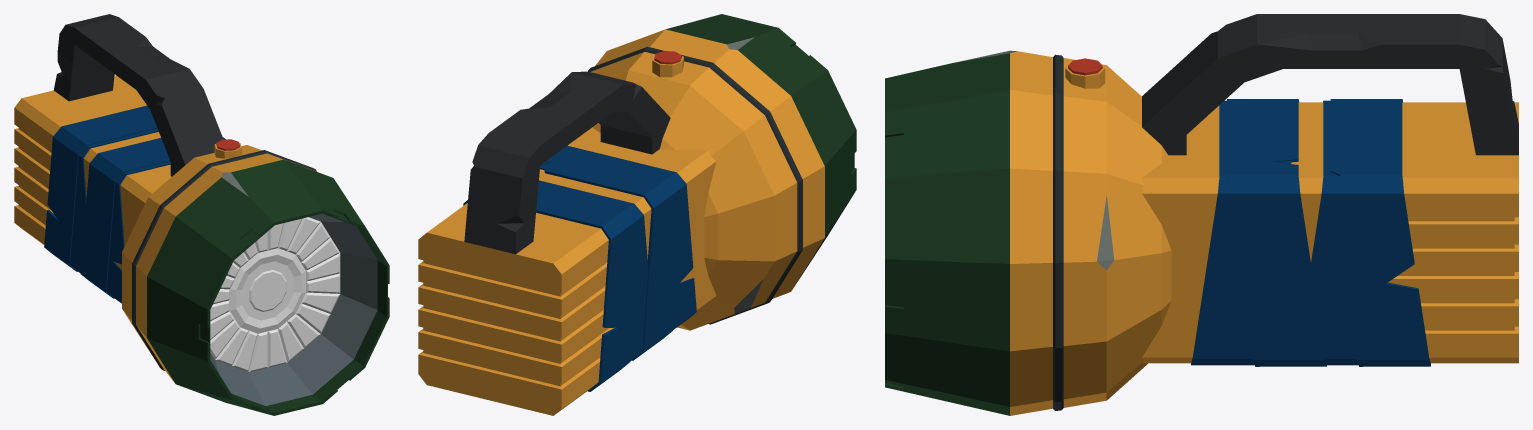
File: SM_FLASHLIGHT.gltf
The picture shows the model from 3 angles, left to right: view 1: azimuth 30°, elevation 25°; view 2: azimuth 150°, elevation 25°; view 3: azimuth 270°, elevation 25°; orthographic projection. The views are drawn at different scales.
Parts seen in each view (by area): view 1: SM_FLASHLIGHT; view 2: SM_FLASHLIGHT; view 3: SM_FLASHLIGHT.
Boxes of the visible parts, x1,y1,x2,y2 form: SM_FLASHLIGHT: (14, 14, 389, 415); SM_FLASHLIGHT: (418, 14, 856, 415); SM_FLASHLIGHT: (885, 14, 1518, 415).
Bounding box in the file's own units: 0.1529 × 0.1748 × 0.2739.
